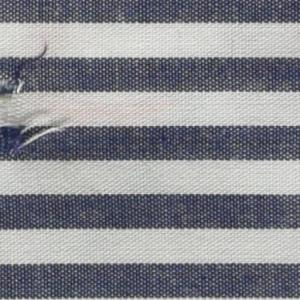Damage: (1, 46, 73, 161)
